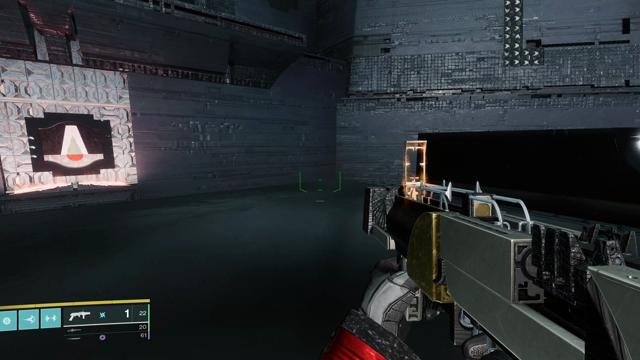enter: (39, 120, 105, 170)
